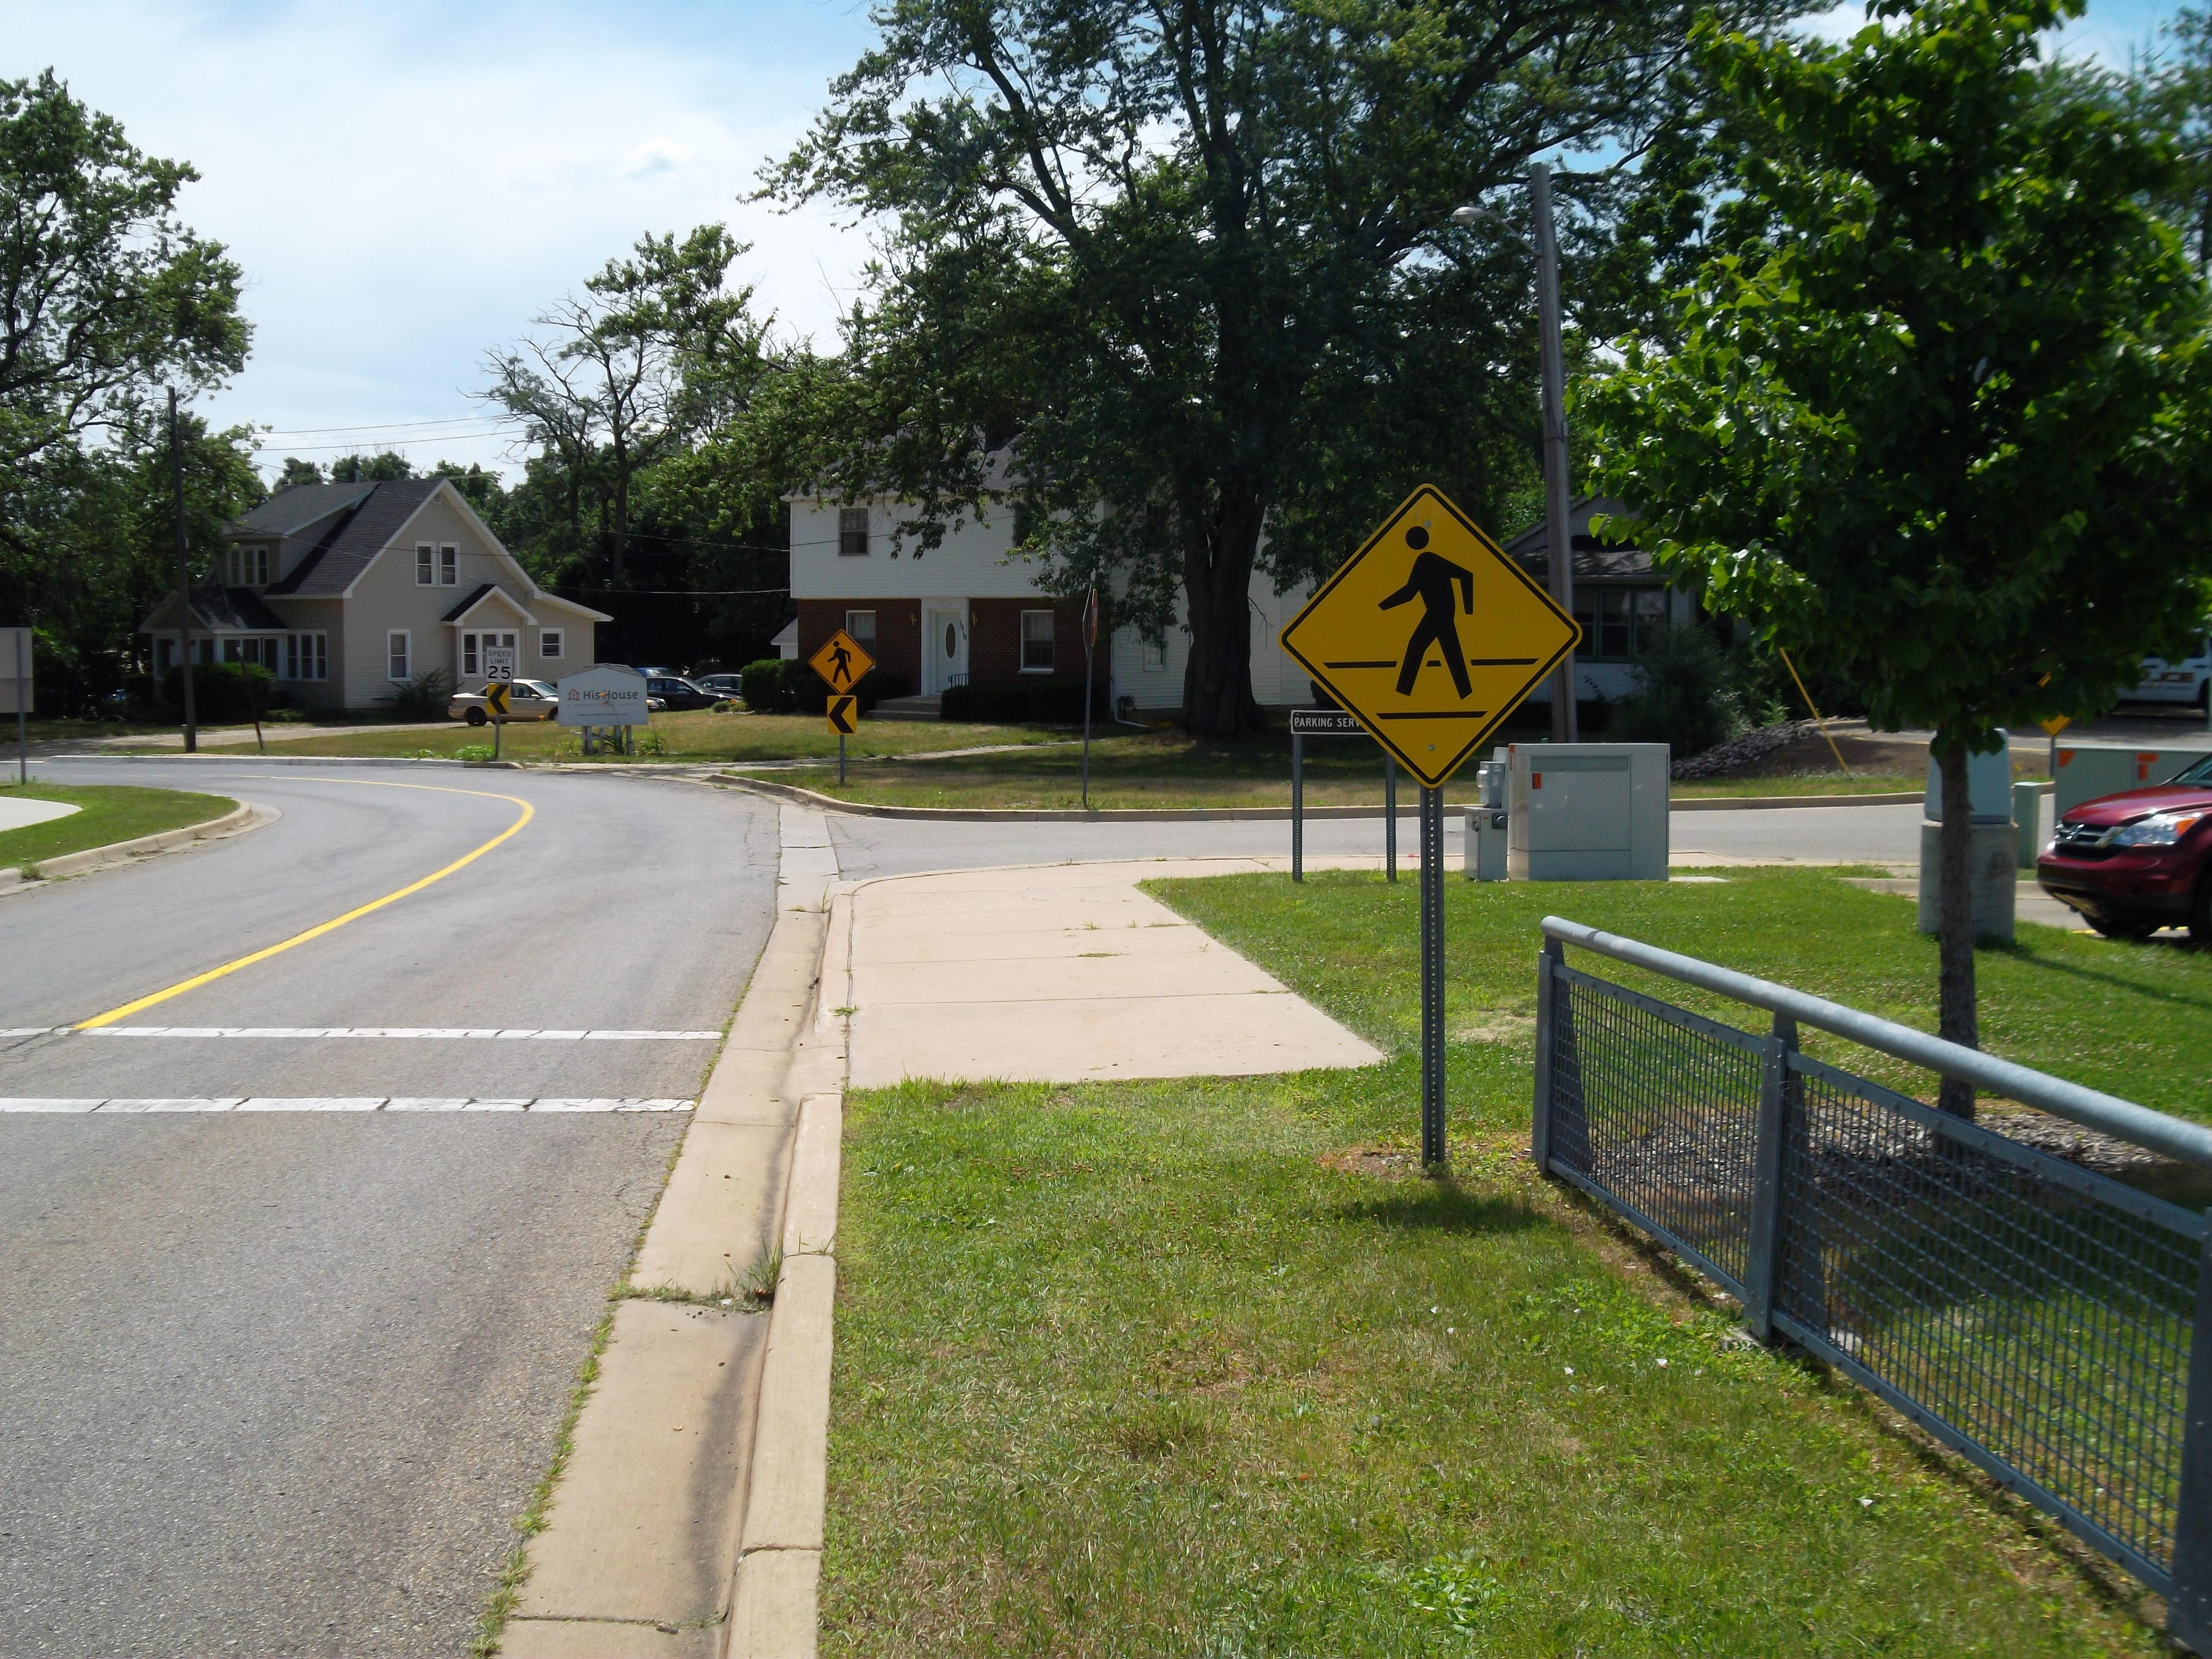regulatory: (486, 647, 514, 683)
warning: (1284, 484, 1585, 784), (808, 629, 874, 695), (827, 697, 857, 735), (489, 685, 510, 714)
